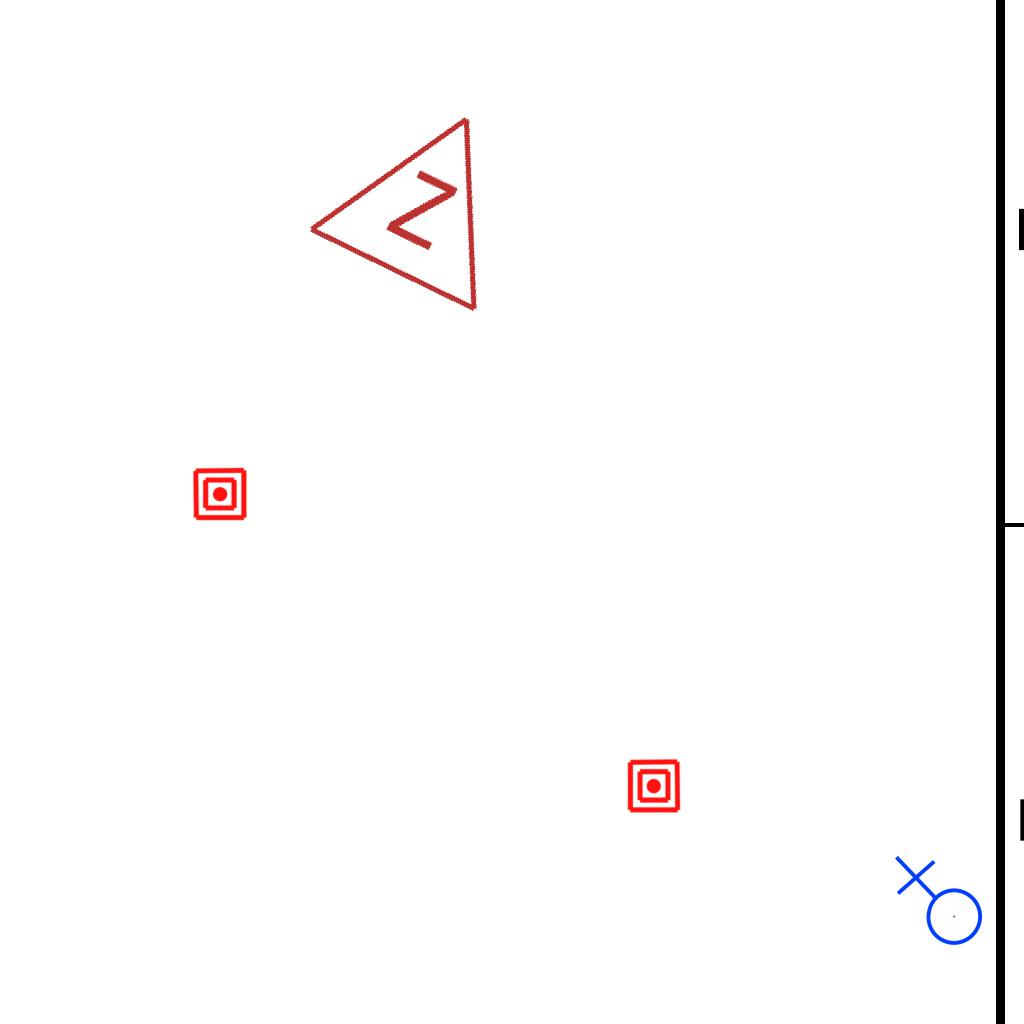Elektroanschluss_allgemein_230V_Geraeteanschlussdose_230V: (890, 855, 984, 954)
NAM-Nichtautomatischer_Melder: (626, 758, 682, 814), (192, 466, 248, 522)
Zimmersignalleuchte: (295, 61, 559, 327)
